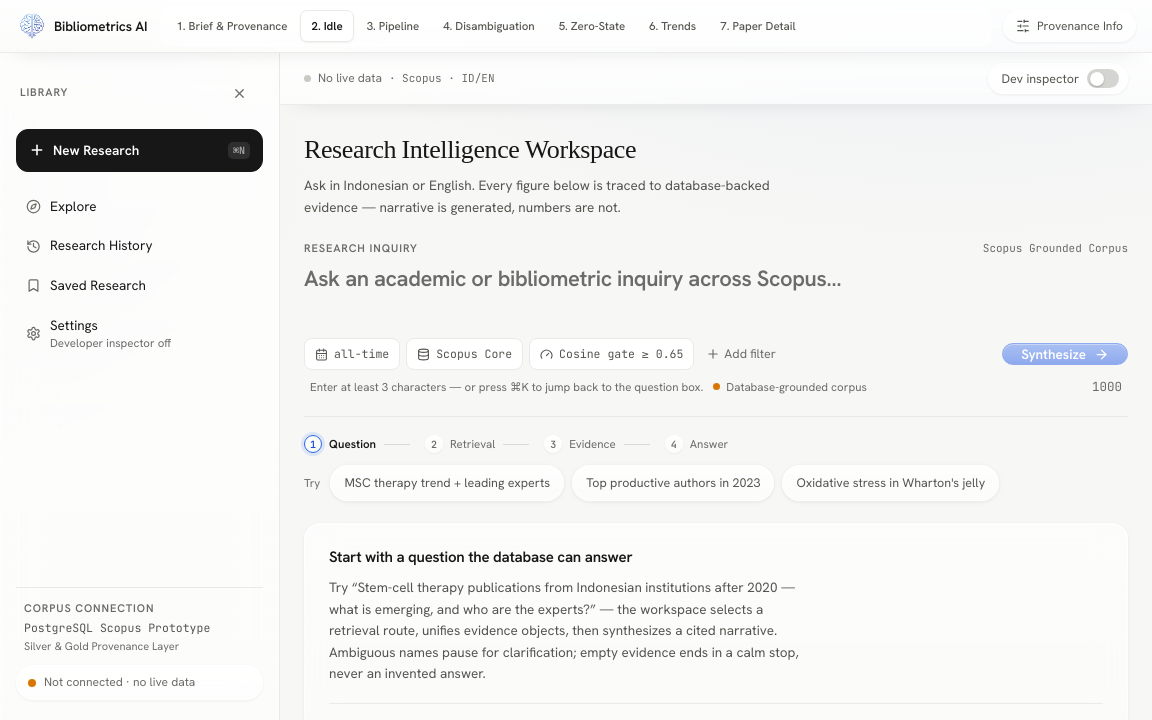
Test: ask inside a session › renders a not_found answer rather than substituting data
Type "Quantum-dot yields?" into the text box named "research question".
click(716, 293); type("Quantum-dot yields?")  # box top-left (304, 265), bottom-right (1128, 321)
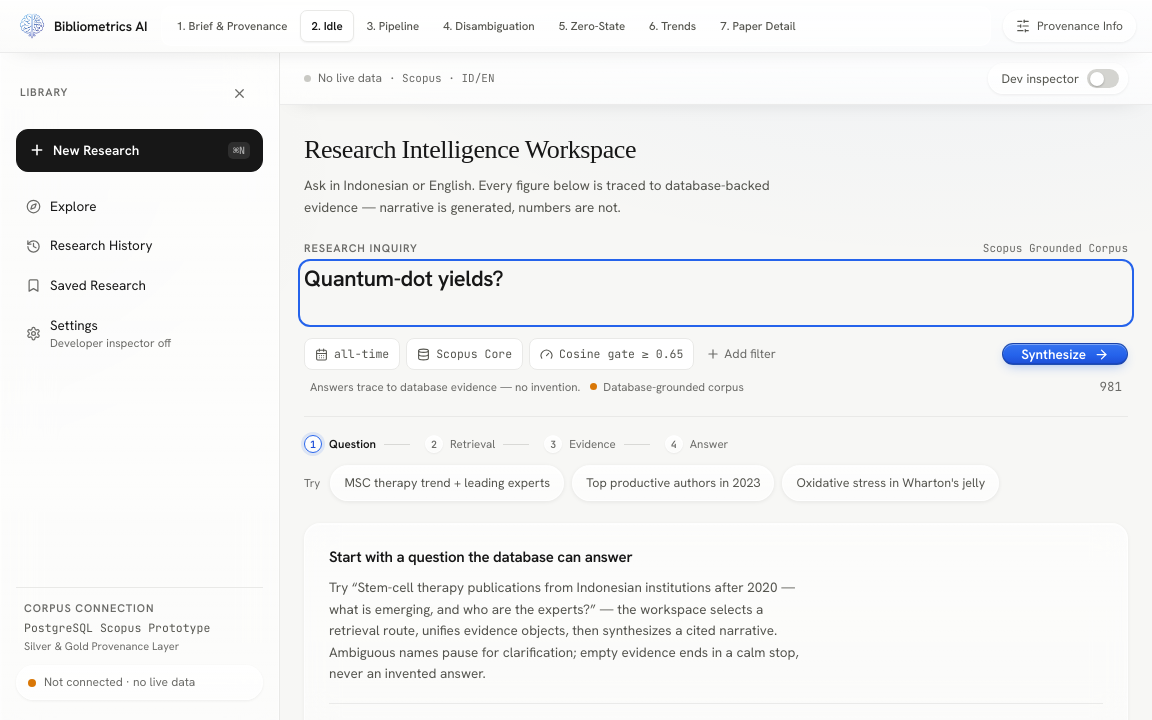
Click the button "Synthesize".
click(1065, 354)  # box top-left (1002, 342), bottom-right (1128, 365)
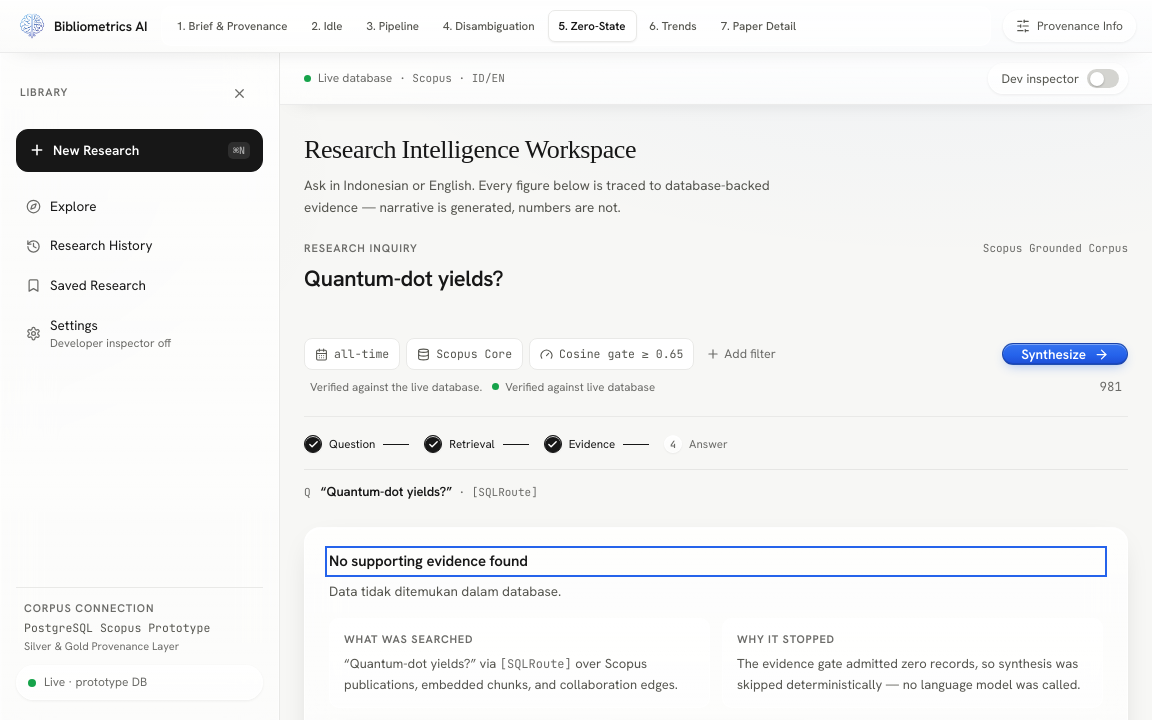
Expected: the text "Data tidak ditemukan dalam database." is shown, top-left (329, 582), bottom-right (561, 600)
